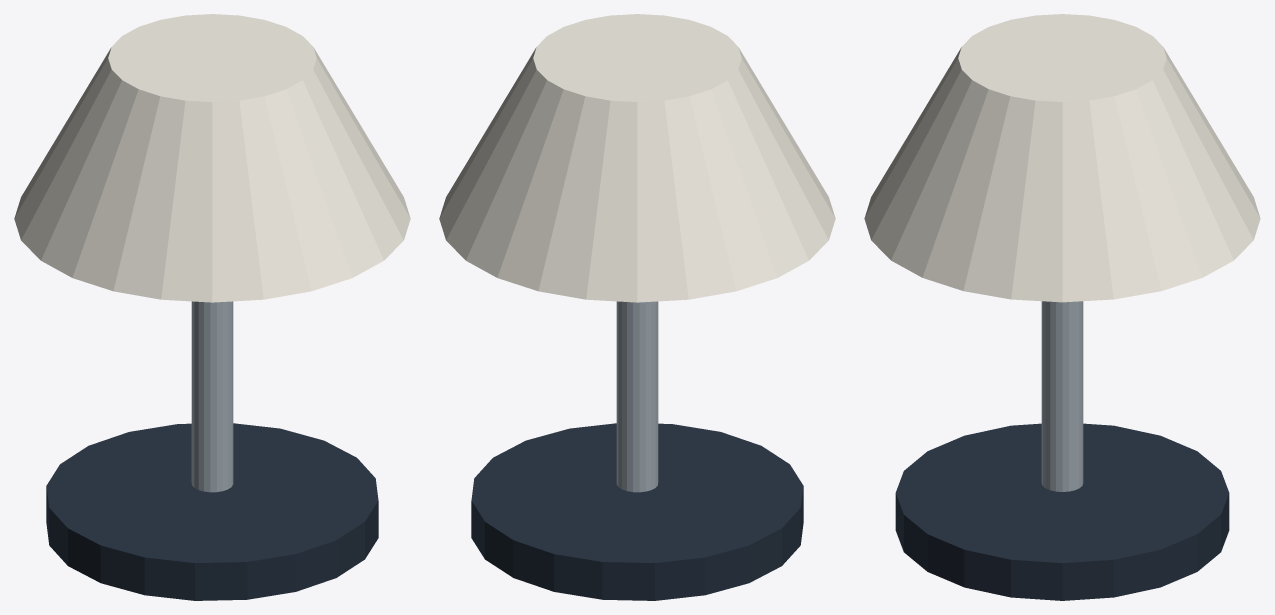
Rendered from decor_04.glb.
3 views of the same model, side by side, from view 1: azimuth 30°, elevation 25°; view 2: azimuth 150°, elevation 25°; view 3: azimuth 270°, elevation 25° (orthographic).
Parts seen in each view (by area): view 1: LampShade, DeskLightBase, DeskLightStem; view 2: LampShade, DeskLightBase, DeskLightStem; view 3: LampShade, DeskLightBase, DeskLightStem.
Part boxes in pixels (x1,y1,x2,y2): LampShade: [14, 14, 410, 302]; DeskLightBase: [46, 423, 378, 600]; DeskLightStem: [191, 301, 233, 492]; LampShade: [439, 14, 835, 302]; DeskLightBase: [471, 423, 803, 600]; DeskLightStem: [616, 301, 658, 492]; LampShade: [864, 14, 1260, 302]; DeskLightBase: [895, 423, 1229, 600]; DeskLightStem: [1041, 301, 1083, 491].
Bounding box in the file's own units: 0.38 × 0.5 × 0.38.
